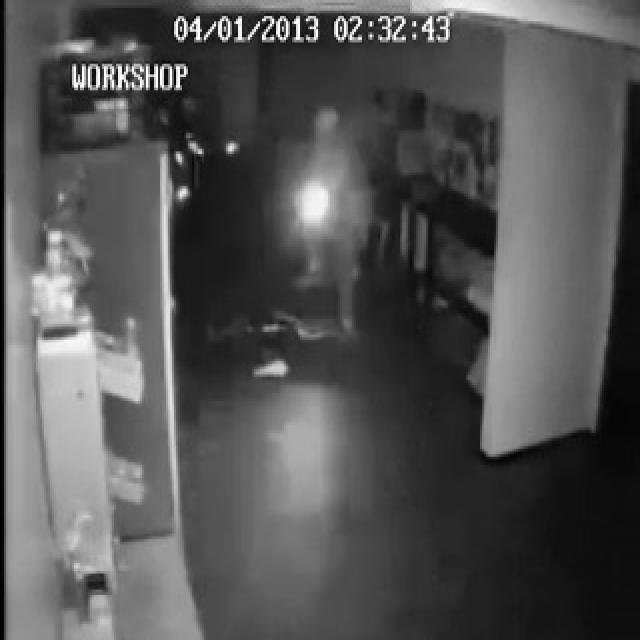thief: (305, 97, 362, 238)
